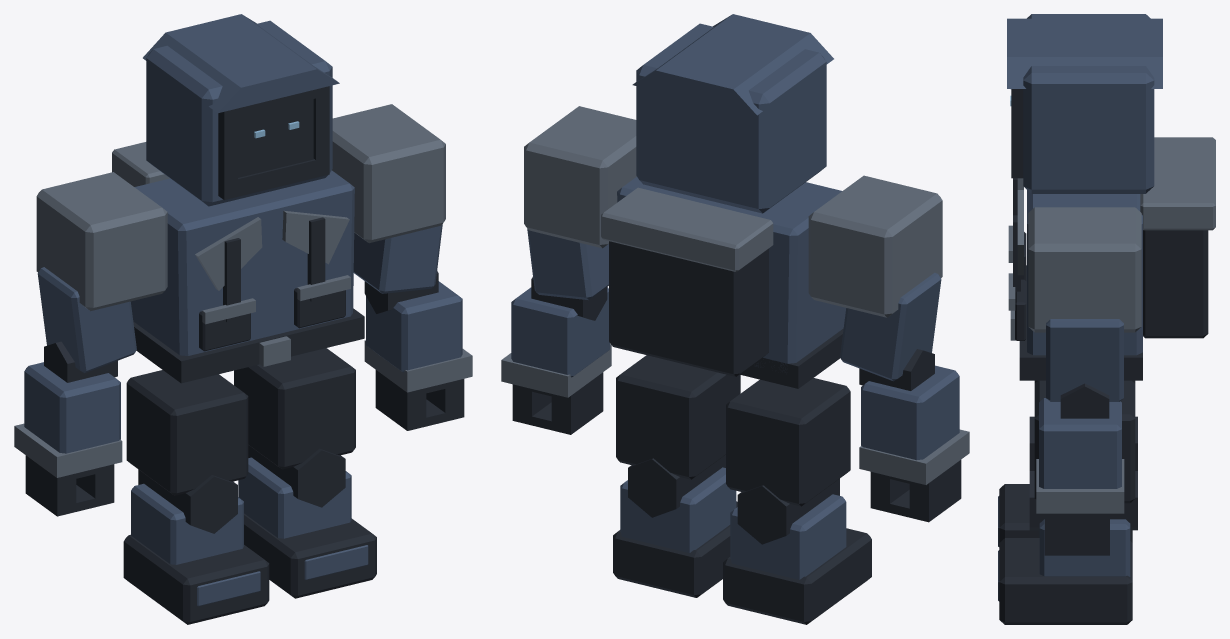
3 renders of one model, left to right at view 1: azimuth 30°, elevation 25°; view 2: azimuth 150°, elevation 25°; view 3: azimuth 270°, elevation 25°, orthographic. The views are drawn at different scales.
Visible parts, largest first — view 1: Jaqueta, Ombro, Coxa.001, Ombro.001, Coxa, Cabeça encapuzada, Viseira do capuz, Bota.001, Antebraço.001, Antebraço, Braço.001, Bota (+26 smaller); view 2: Cabeça encapuzada, Mochila de exploração, Ombro, Coxa.001, Ombro.001, Coxa, Jaqueta, Viseira do capuz, Tampa da mochila, Bota.001, Antebraço.001, Braço.001 (+14 smaller); view 3: Cabeça encapuzada, Ombro.001, Viseira do capuz, Bota, Mochila de exploração, Antebraço, Tampa da mochila, Braço, Jaqueta, Canela, Mão de avatar.001, Punho.001 (+10 smaller).
Part boxes in pixels (x1=…): Jaqueta: x1=130, y1=170, x2=354, y2=355; Ombro: x1=36, y1=172, x2=167, y2=311; Coxa.001: x1=126, y1=370, x2=248, y2=495; Ombro.001: x1=332, y1=104, x2=445, y2=243; Coxa: x1=234, y1=348, x2=355, y2=469; Cabeça encapuzada: x1=146, y1=20, x2=332, y2=206; Viseira do capuz: x1=143, y1=14, x2=339, y2=113; Bota.001: x1=123, y1=534, x2=269, y2=624; Antebraço.001: x1=24, y1=362, x2=120, y2=453; Antebraço: x1=366, y1=281, x2=462, y2=372; Braço.001: x1=37, y1=267, x2=136, y2=373; Bota: x1=244, y1=513, x2=376, y2=598; Cabeça encapuzada: x1=636, y1=23, x2=826, y2=213; Mochila de exploração: x1=609, y1=241, x2=768, y2=376; Ombro: x1=808, y1=175, x2=942, y2=317; Coxa.001: x1=726, y1=378, x2=850, y2=506; Ombro.001: x1=524, y1=106, x2=636, y2=248; Coxa: x1=616, y1=355, x2=740, y2=479; Jaqueta: x1=617, y1=177, x2=846, y2=372; Viseira do capuz: x1=632, y1=14, x2=833, y2=115; Tampa da mochila: x1=601, y1=187, x2=773, y2=271; Bota.001: x1=723, y1=528, x2=871, y2=624; Antebraço.001: x1=861, y1=365, x2=959, y2=460; Braço.001: x1=840, y1=272, x2=941, y2=381; Cabeça encapuzada: x1=1023, y1=14, x2=1154, y2=193; Ombro.001: x1=1028, y1=207, x2=1141, y2=332; Viseira do capuz: x1=1007, y1=18, x2=1162, y2=88; Bota: x1=999, y1=538, x2=1132, y2=624; Mochila de exploração: x1=1143, y1=230, x2=1208, y2=338; Antebraço: x1=1039, y1=398, x2=1121, y2=488; Tampa da mochila: x1=1140, y1=137, x2=1215, y2=230; Braço: x1=1046, y1=319, x2=1123, y2=401; Jaqueta: x1=1027, y1=190, x2=1142, y2=355; Canela: x1=1039, y1=519, x2=1130, y2=576; Mão de avatar.001: x1=1044, y1=513, x2=1109, y2=555; Punho.001: x1=1036, y1=459, x2=1124, y2=513.
Bounding box in the file's own units: 1.97 × 2.37 × 0.865.
